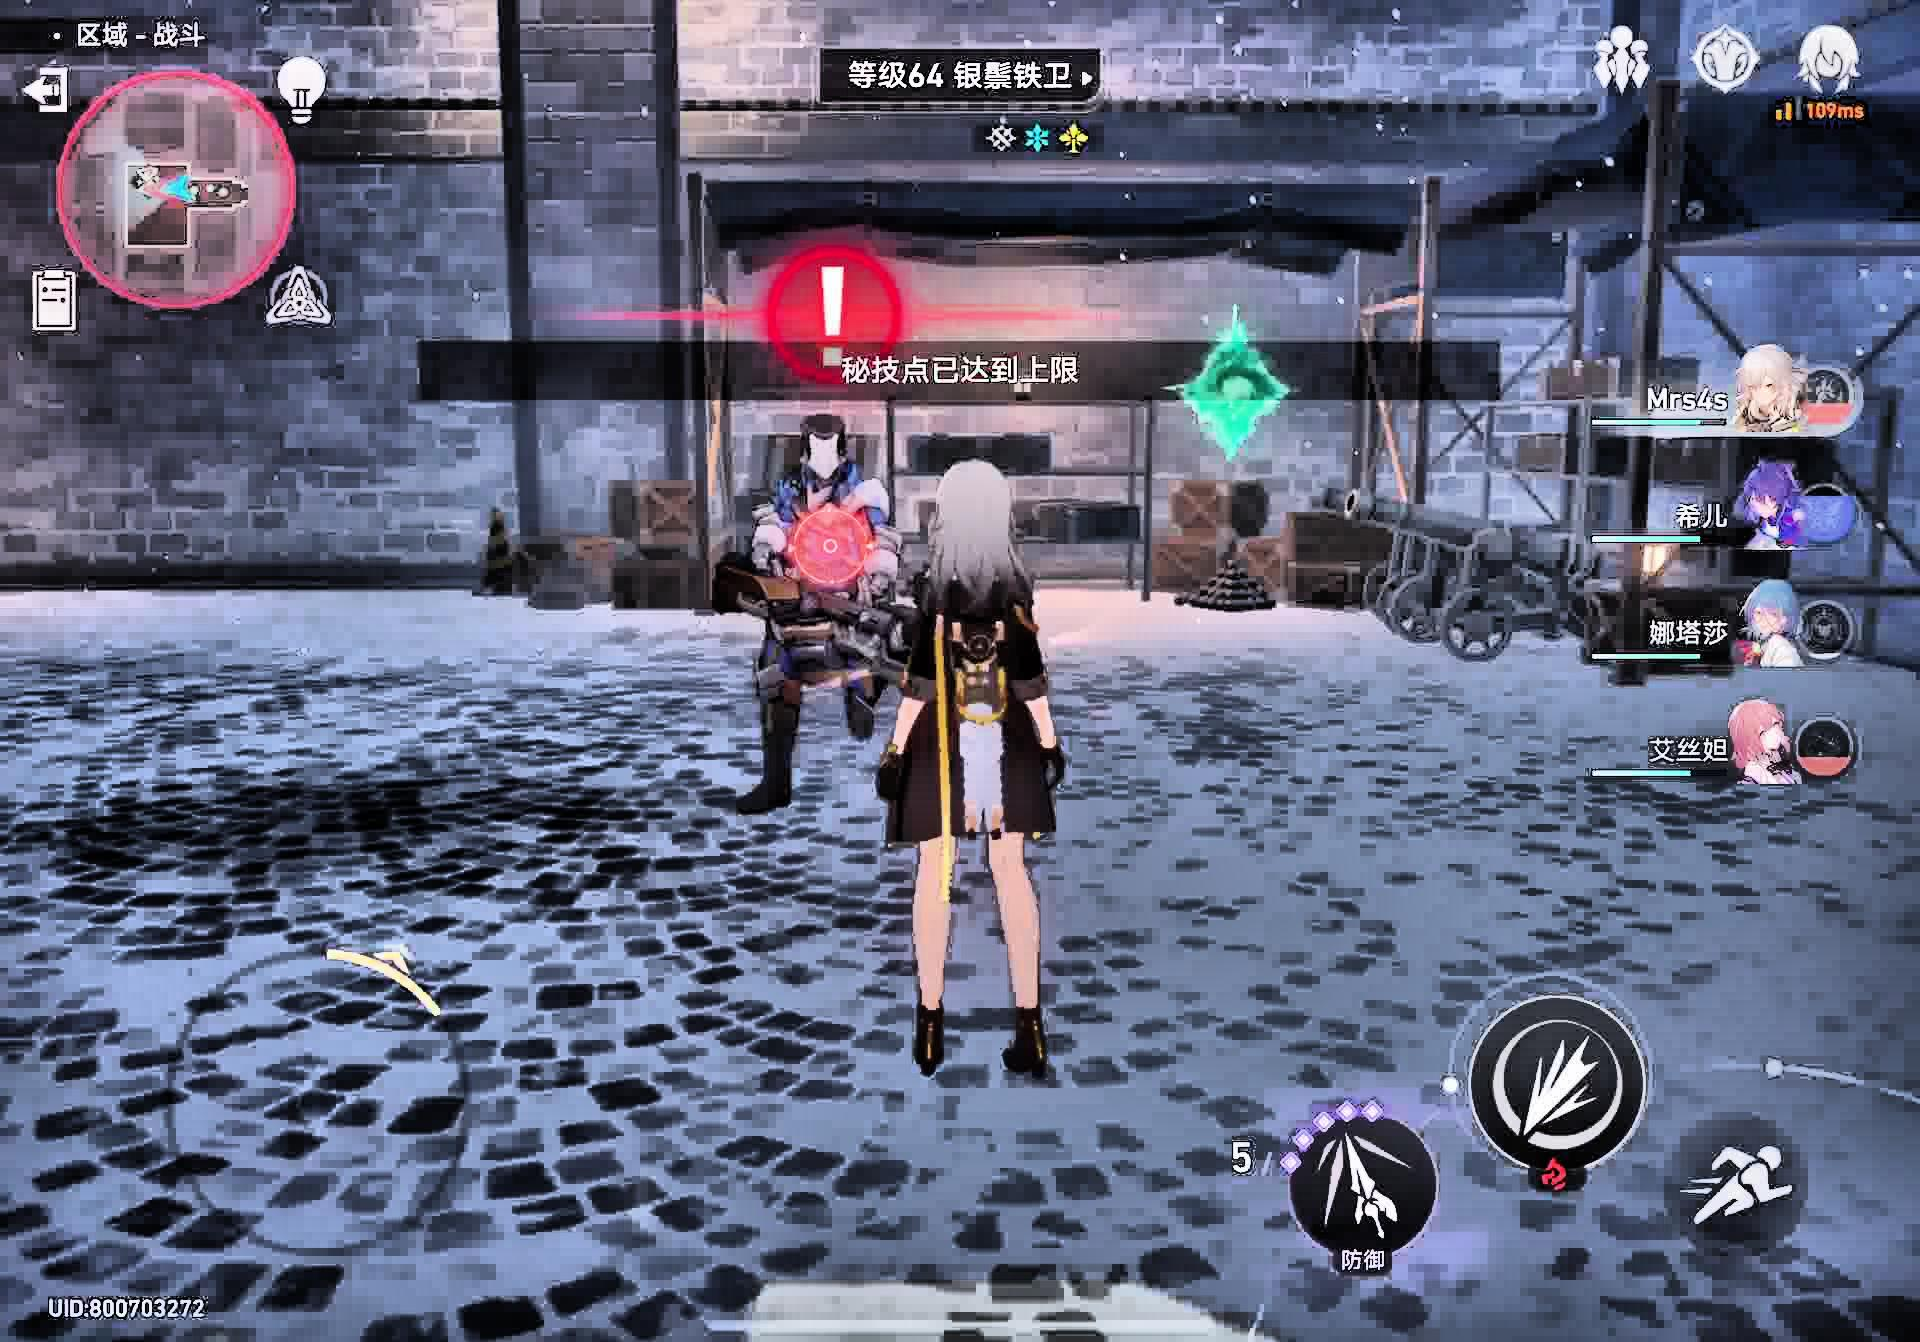Enemy: (734, 414, 913, 812)
SafeDoor: (1156, 308, 1309, 476)
Self: (894, 459, 1074, 1107)
